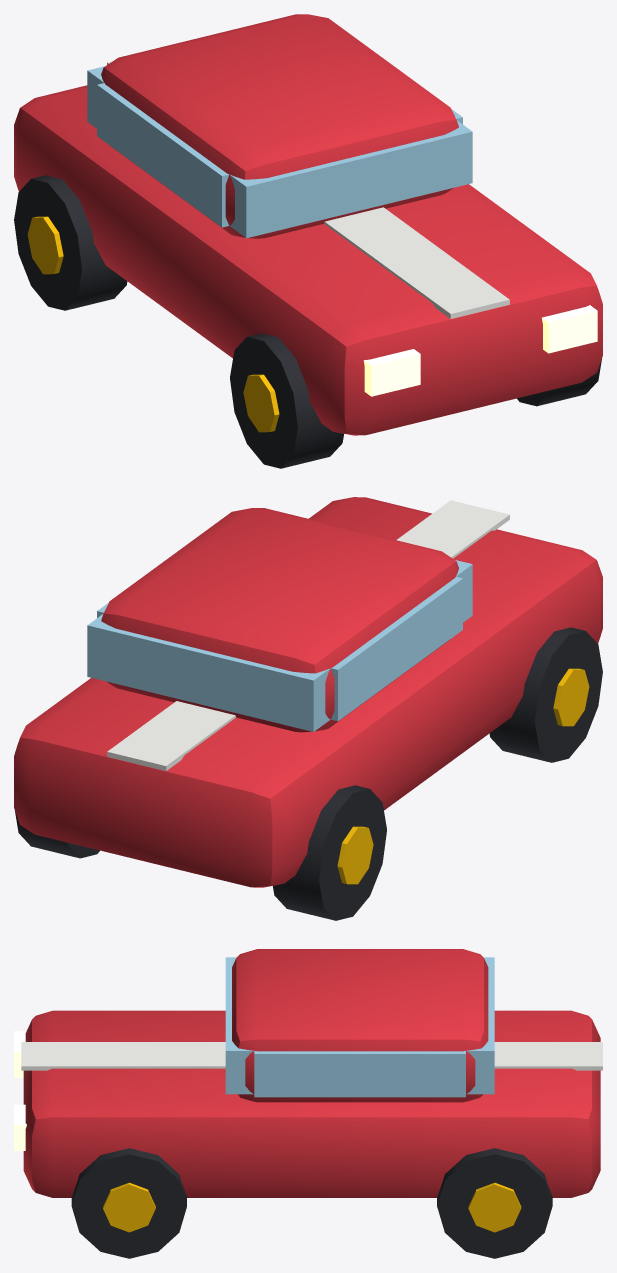
Rendered from toy_car.glb.
3 views of the same model, one above another, from view 1: azimuth 30°, elevation 25°; view 2: azimuth 150°, elevation 25°; view 3: azimuth 270°, elevation 25° (orthographic). The views are drawn at different scales.
Parts seen in each view (by area): view 1: body; view 2: body; view 3: body.
Part boxes in pixels (<box>): body: <box>14,14,602,468</box>; body: <box>14,497,602,920</box>; body: <box>14,949,602,1258</box>.
Size of the model in its own units: 6.4 by 4.8 by 12.25.
